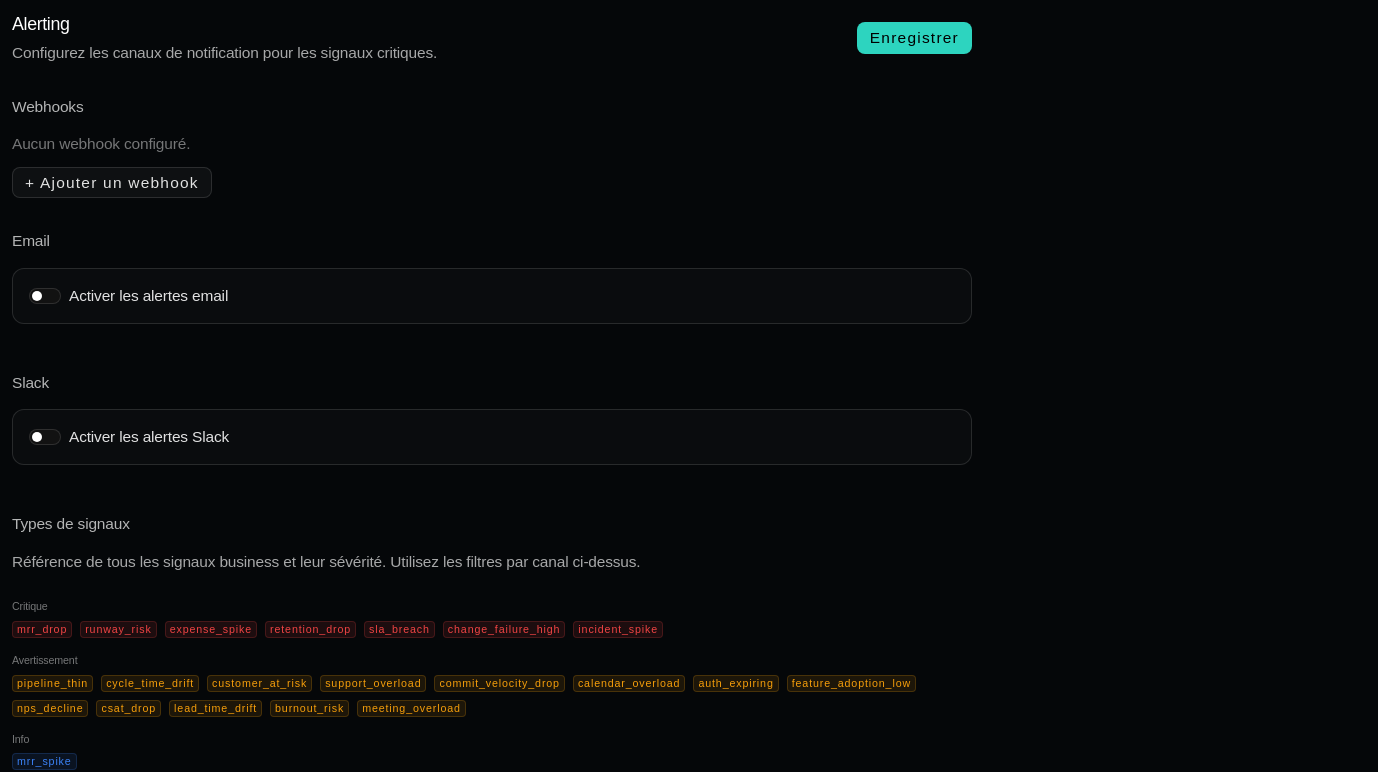
Test case: AlertingSettings — ajout webhook › affiche le formulaire après clic sur Ajouter un webhook
Expected: the heading "Alerting" is shown, [12, 14, 70, 34]
Click the button "+ Ajouter un webhook": (112, 183) [12, 167, 212, 198]
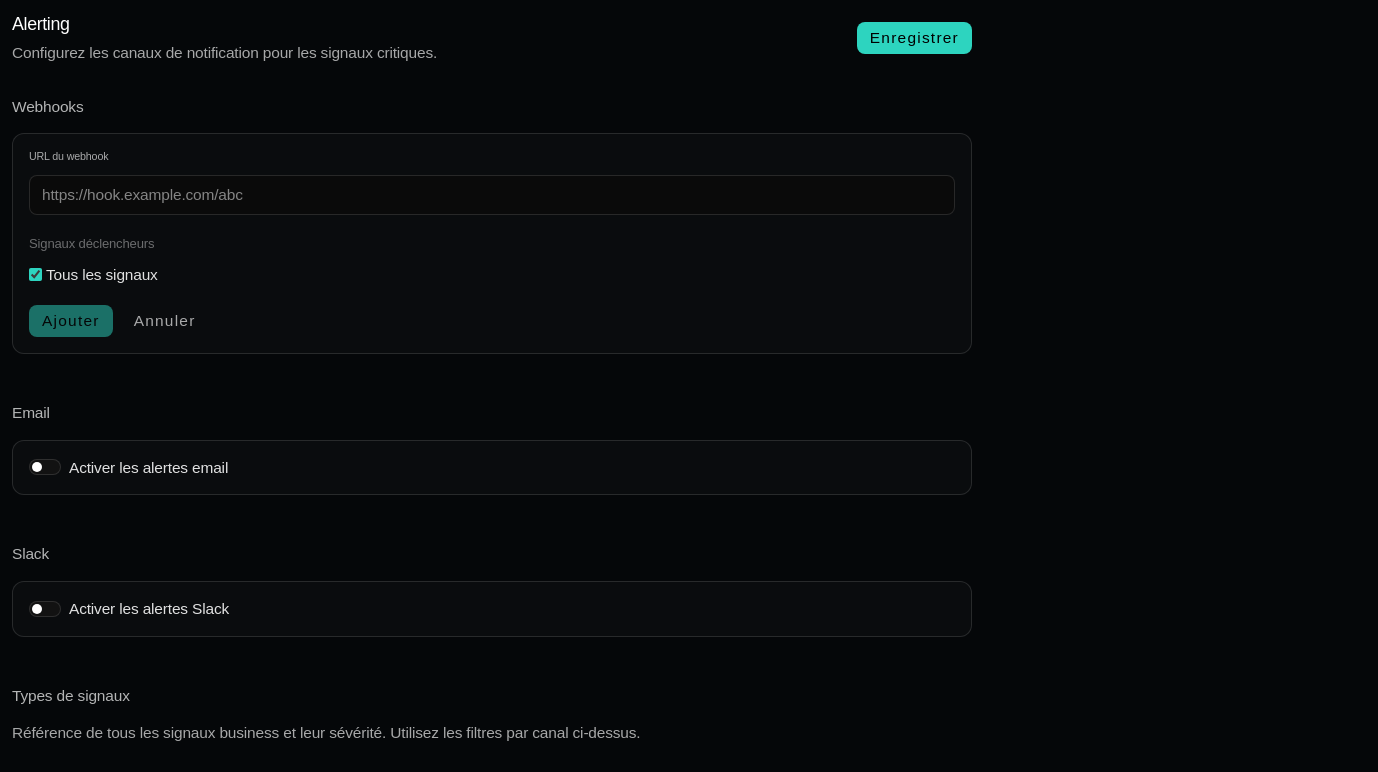
Expected: the field with placeholder "https://hook.example.com/abc" is shown, [29, 175, 955, 215]
